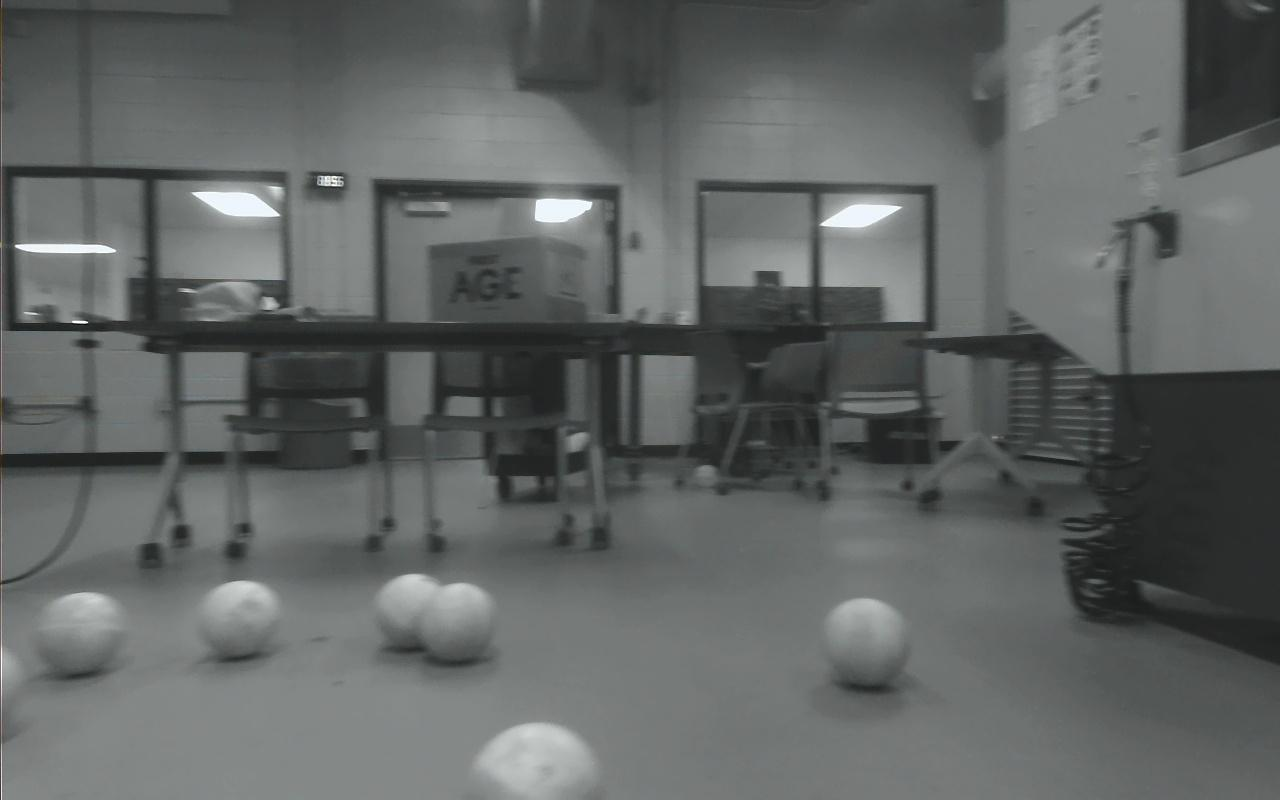Fuel: (467, 722, 603, 800), (822, 597, 910, 688), (35, 591, 127, 676), (198, 580, 283, 660), (417, 582, 498, 664), (374, 573, 445, 651), (0, 645, 26, 733)
